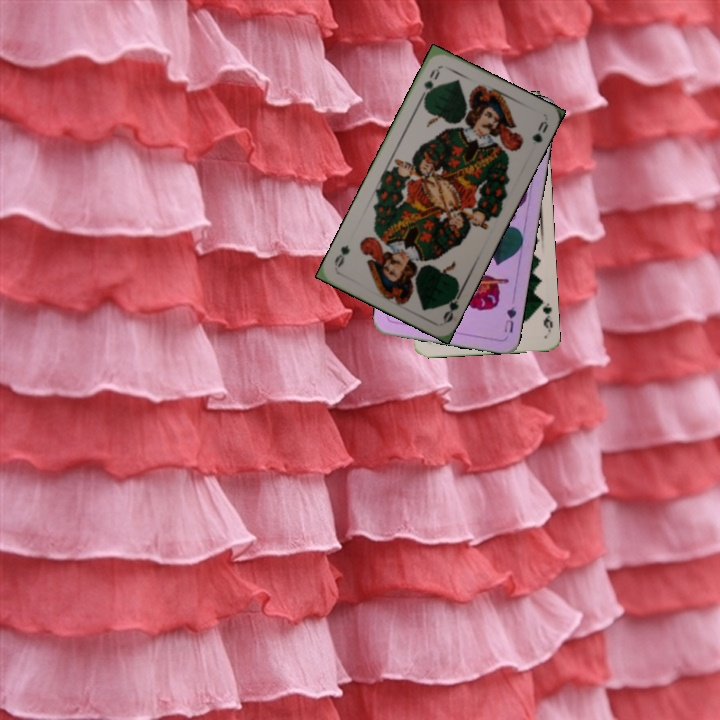G9: (534, 295, 555, 335)
GO: (416, 64, 443, 103), (439, 285, 465, 325)
GU: (500, 302, 519, 335)
